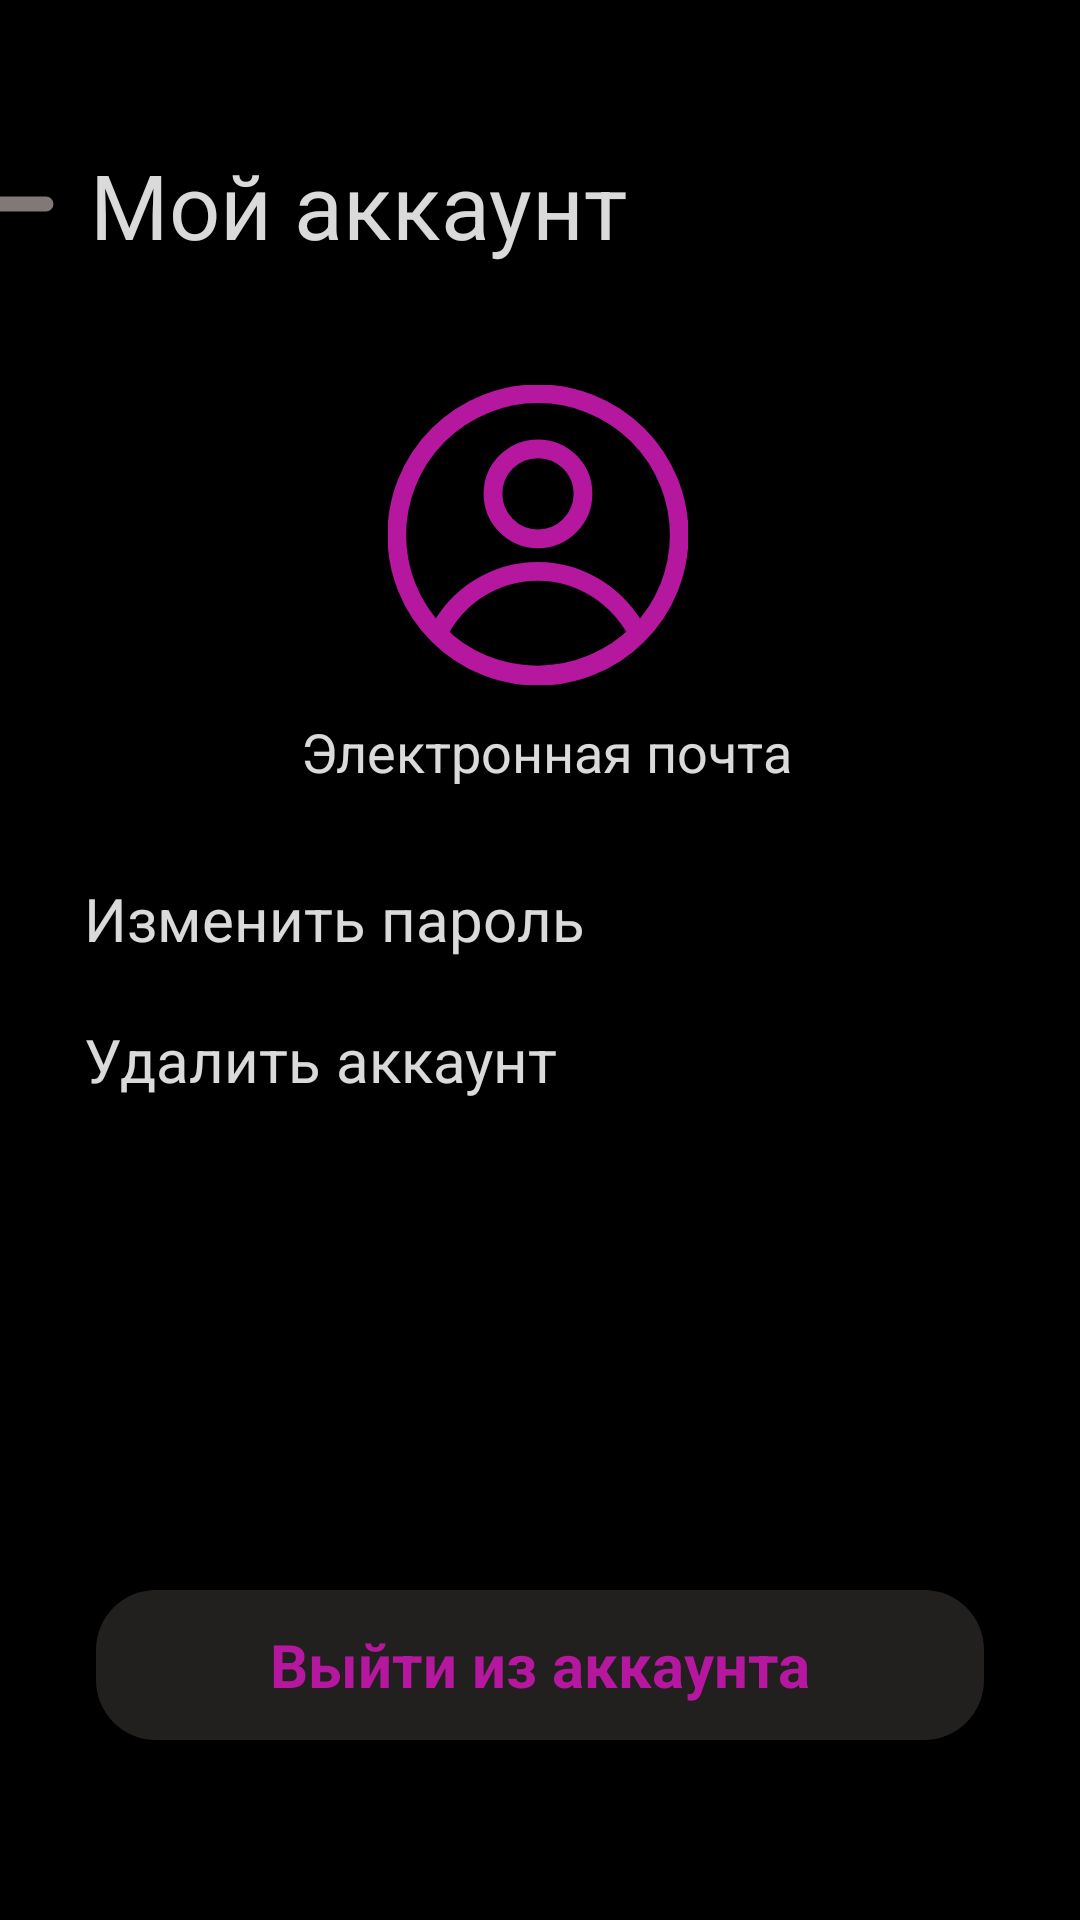

Icons on this 1080x1920 Android screen, each with the point to tap as [x,y]:
account: [538,535]
